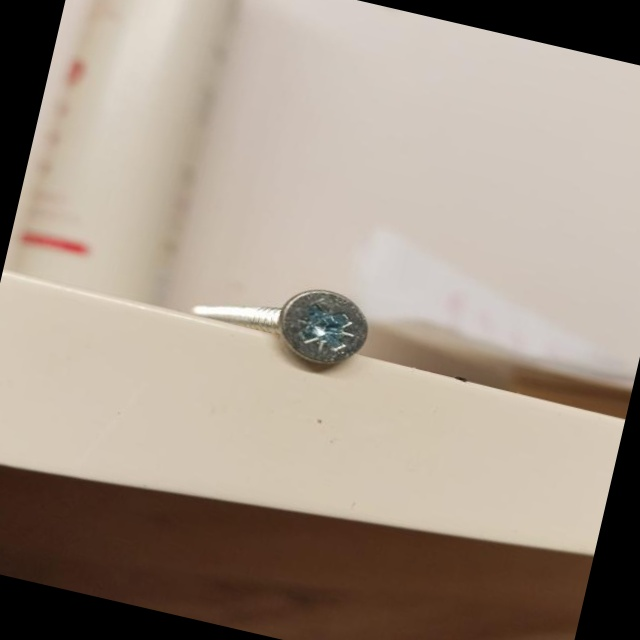pozidriv: (271, 280, 376, 373)
